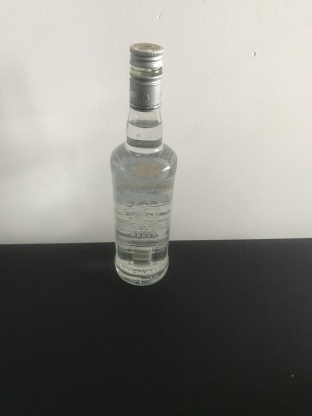nakretka: (128, 41, 164, 113)
